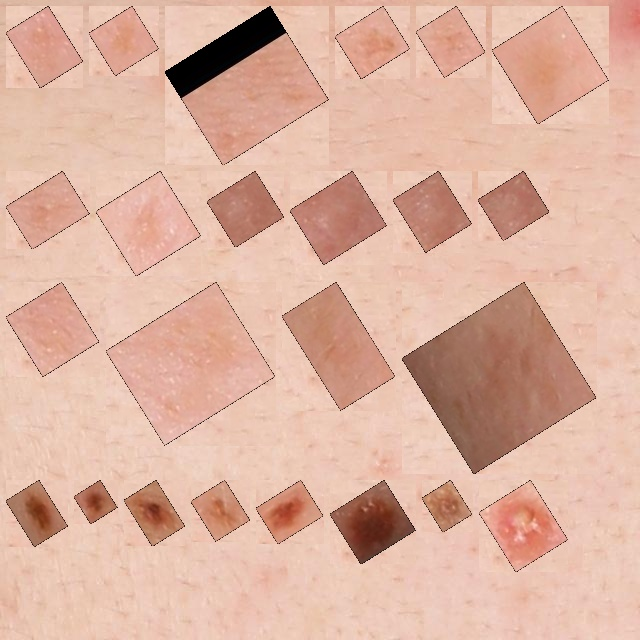hypertrophic_scar: (301, 182, 376, 253), (404, 182, 461, 241), (218, 182, 273, 236), (489, 182, 538, 229)
melasma: (413, 293, 585, 463), (117, 293, 264, 434), (176, 17, 317, 154), (293, 293, 384, 399), (503, 17, 597, 113), (107, 182, 190, 265), (17, 293, 88, 365), (17, 182, 78, 238), (17, 17, 72, 77), (346, 17, 399, 68), (427, 17, 474, 66), (100, 17, 148, 64)
nevus: (341, 491, 405, 553), (267, 491, 312, 533), (17, 491, 57, 535), (135, 491, 174, 535), (202, 491, 239, 530), (433, 491, 461, 521), (85, 491, 106, 513)
pustule: (490, 491, 557, 561)
